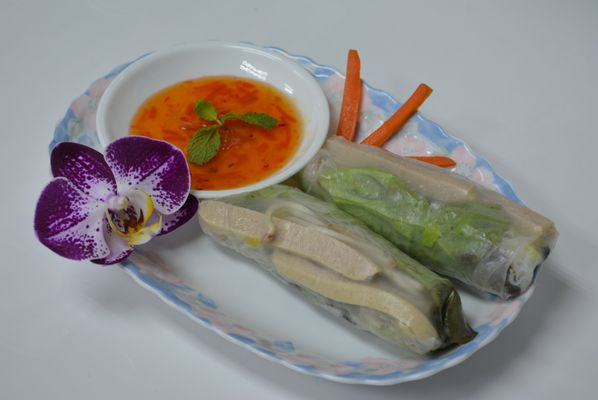sushi: (102, 66, 558, 383), (97, 42, 330, 199)
